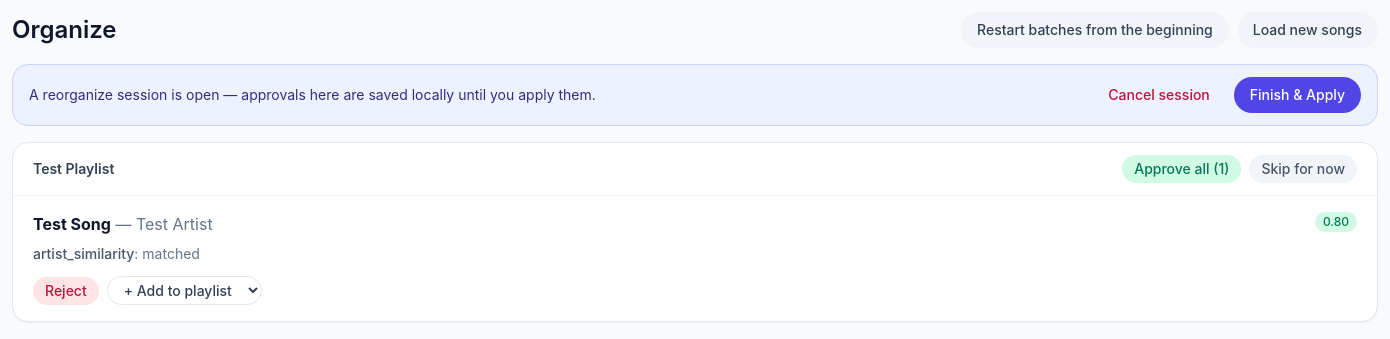
Test: ReviewQueue › shows the reorganize session banner while a non-terminal session item exists, and hides it once it's terminal
Expected: the element with test id "reorganize-session-banner" is shown, [12,64,1378,126]
Expected: the button "Finish & Apply" is shown, [1234,77,1361,113]
Step 1. Click the button "Reject" → (66, 290), box [33,276,99,304]
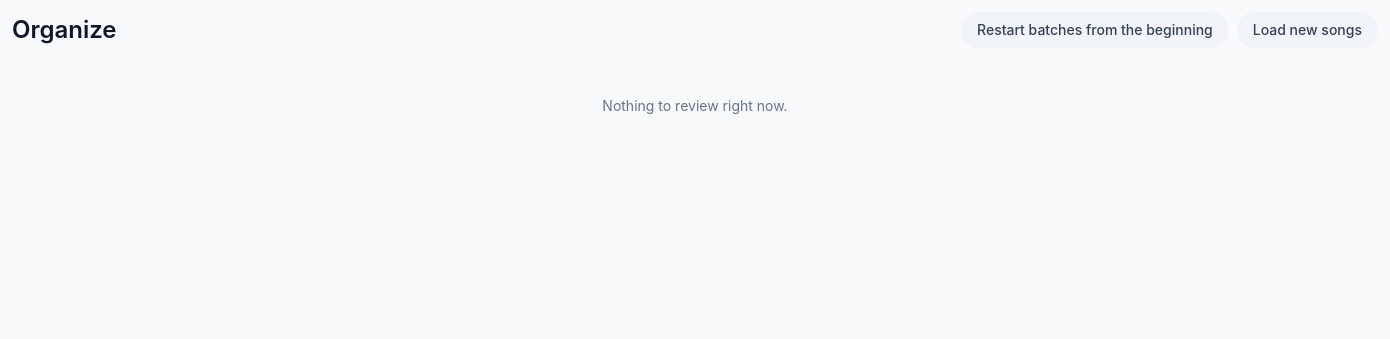
Result: the element with test id "reorganize-session-banner" is gone
